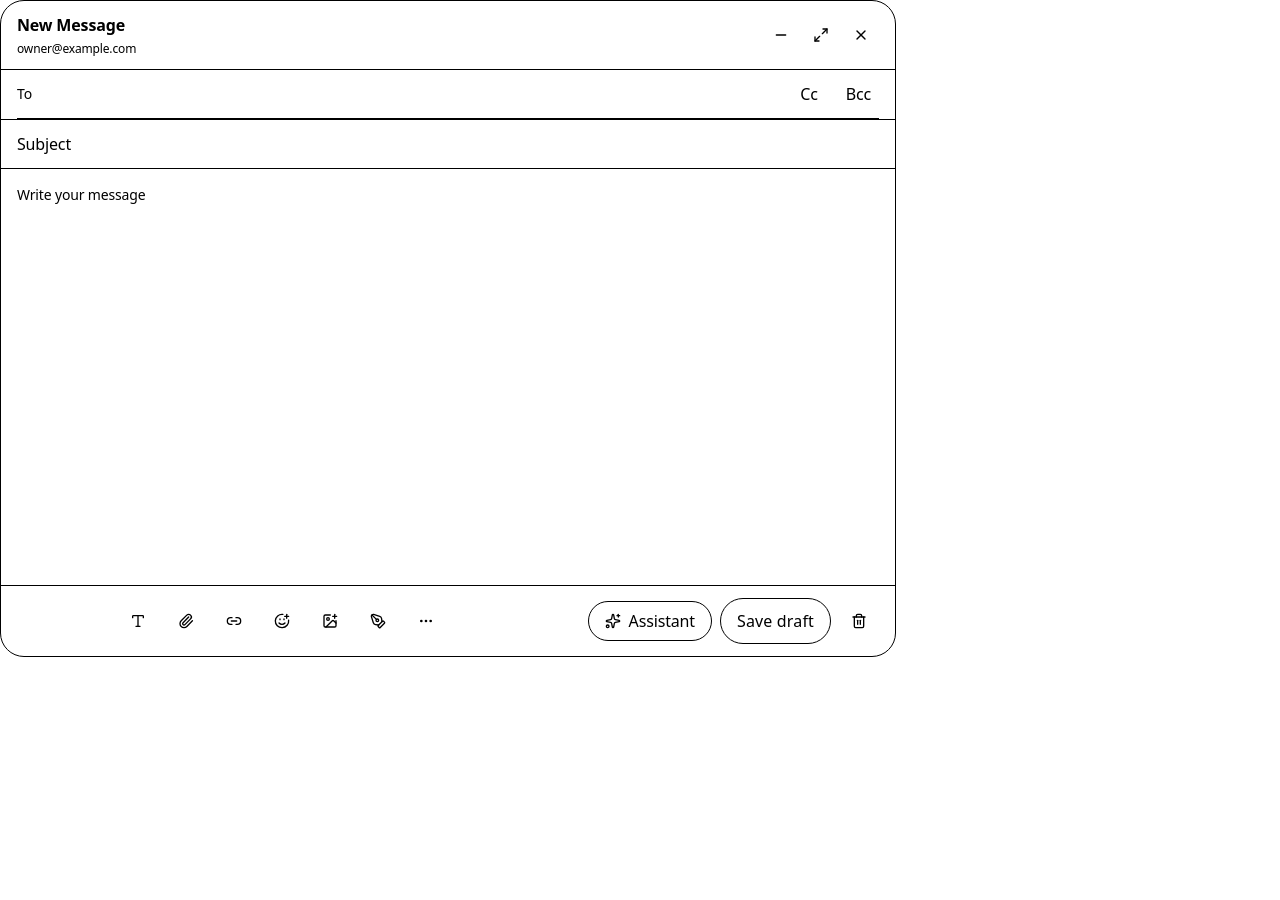
Scenario: ComposeForm › shows only real items in more options and does not render Google Drive or confidential mode
The image size is (1280, 900).
Click the button named "More options".
click(426, 621)  # box x1=406 y1=601 x2=446 y2=641
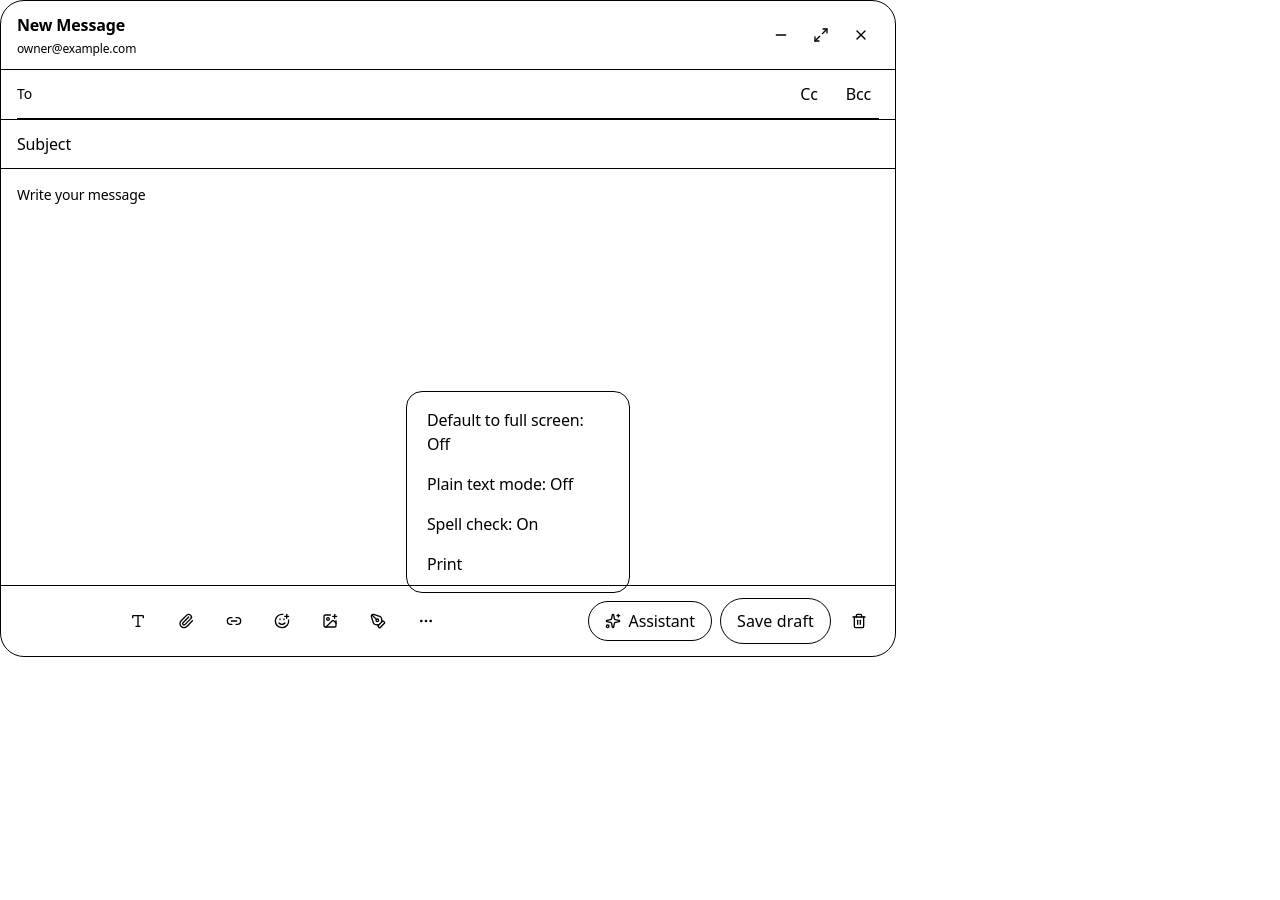
Result: the button "Default to full screen: Off" is shown at x1=415 y1=400 x2=621 y2=464
Result: the button "Plain text mode: Off" is shown at x1=415 y1=464 x2=621 y2=504
Result: the button "Spell check: On" is shown at x1=415 y1=504 x2=621 y2=544
